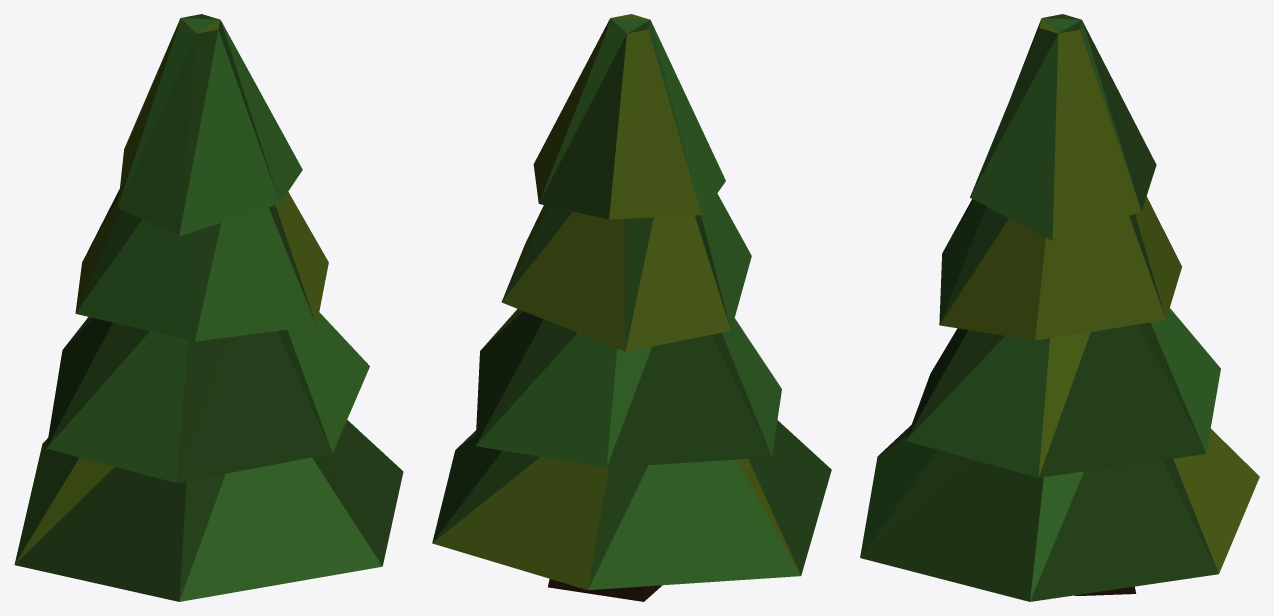
The model's file is Tree2_M1_7_big.fbx.
3 views of the same model, side by side, from view 1: azimuth 30°, elevation 25°; view 2: azimuth 150°, elevation 25°; view 3: azimuth 270°, elevation 25° (orthographic).
Visible parts, largest first — view 1: Tree2_M1_7_big; view 2: Tree2_M1_7_big; view 3: Tree2_M1_7_big.
Boxes of the visible parts, x1,y1,x2,y2 form: Tree2_M1_7_big: (14,14,403,601); Tree2_M1_7_big: (432,14,831,601); Tree2_M1_7_big: (860,14,1259,601).
Bounding box in the file's own units: 356 × 505 × 334.
